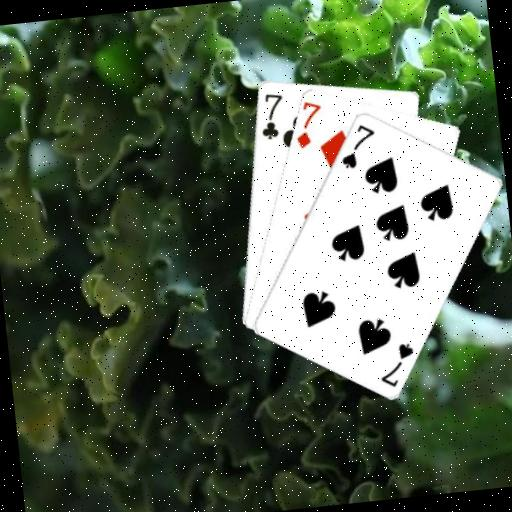7C: (255, 89, 289, 142)
7D: (289, 97, 327, 151)
7S: (335, 120, 380, 172), (374, 339, 419, 390)
